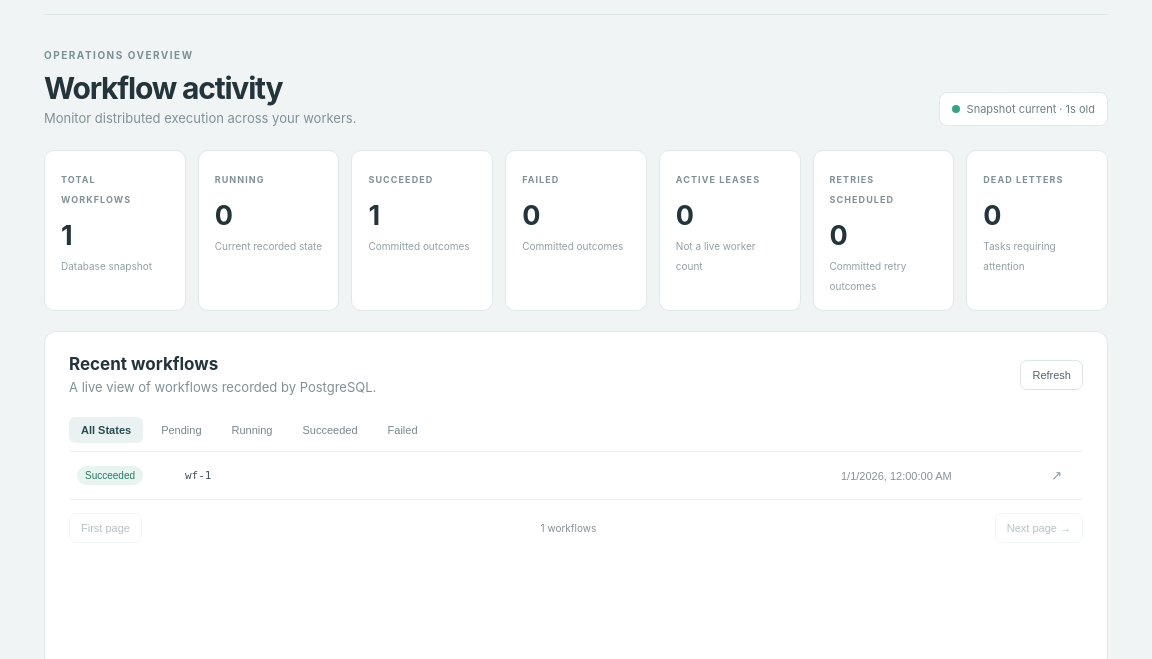
Test: dashboard › preserves loaded attempt pages across refresh and resets them on task switch
This screenshot has width=1152, height=659.
Click the text "wf-1".
click(198, 476)  # box [185,469,212,482]
(page scrolled)
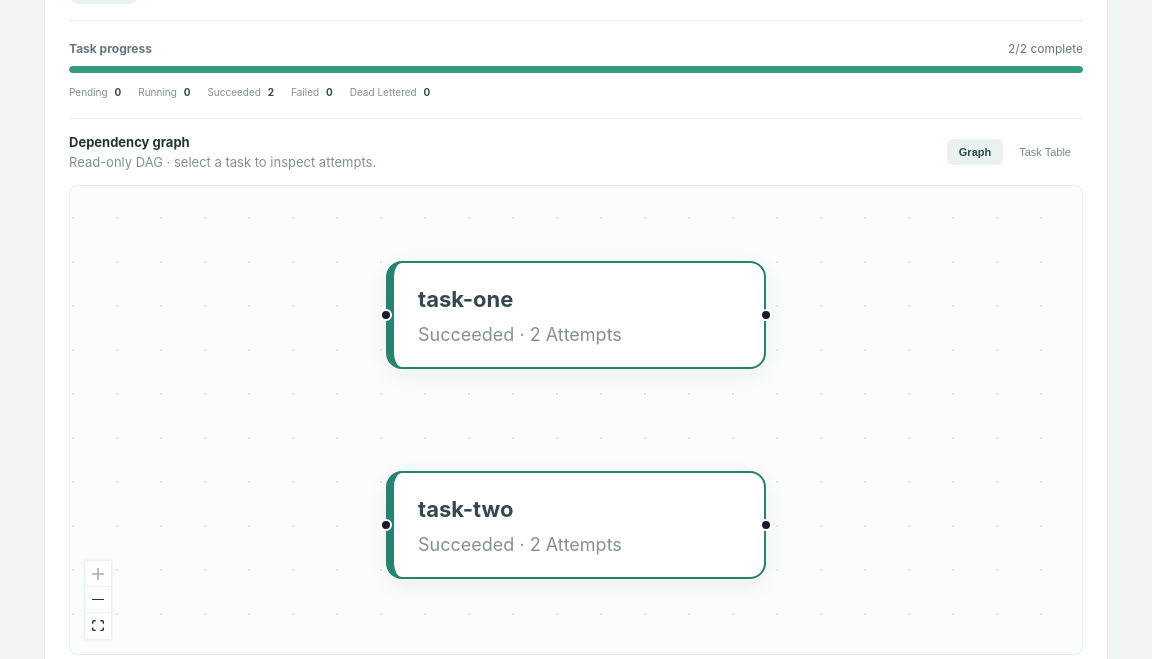
Click the text "task-one".
click(466, 299)  # box [418,285,513,313]
(page scrolled)
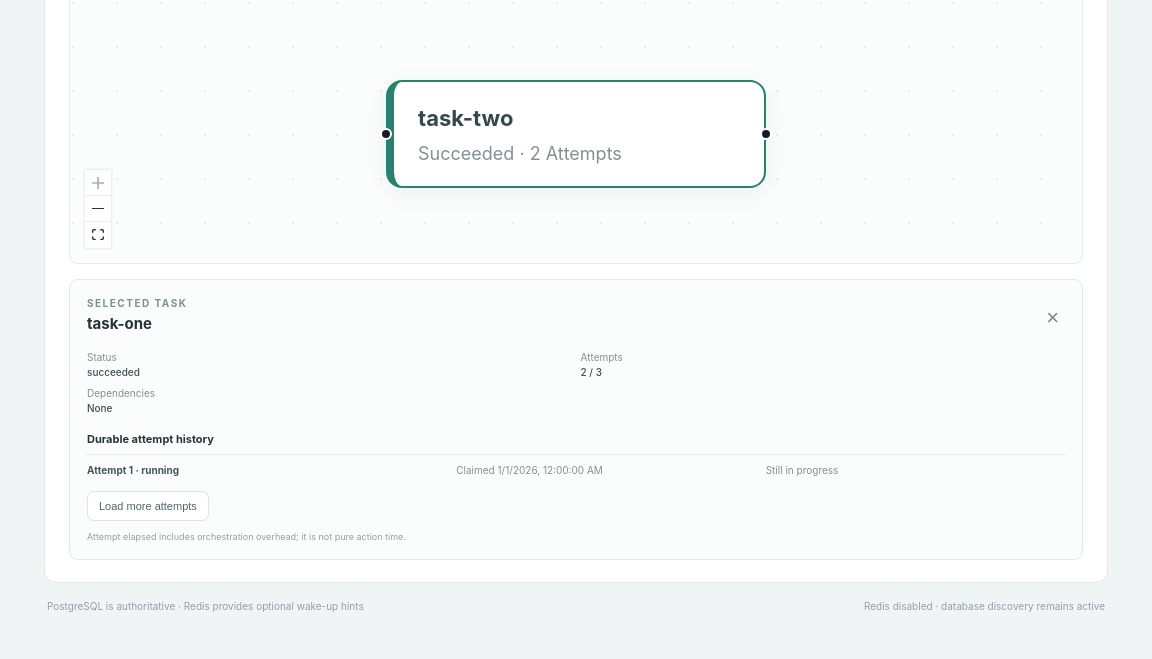
Now the text "Attempt 1 · running" is shown, box [87,464,179,476]
Click the button "Load more attempts".
click(148, 506)  # box [87,491,209,521]
Wait 15000 ms
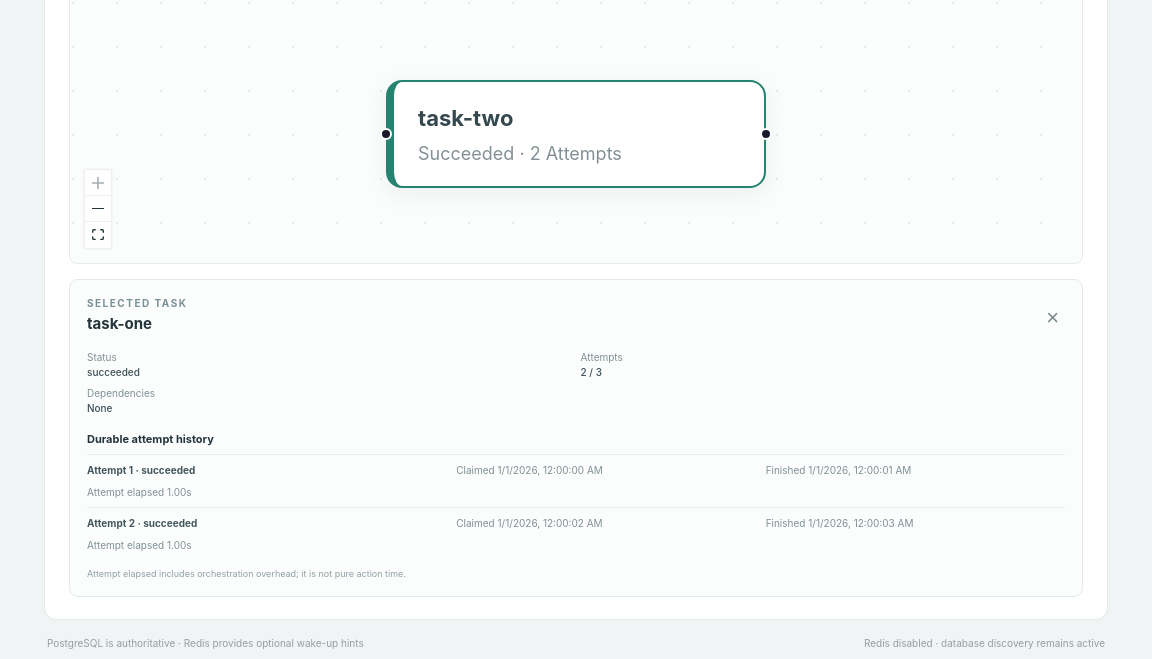
Now the text "Attempt 2 · succeeded" is shown, box [87,517,197,529]
Now the text "Attempt 1 · succeeded" is shown once, box [87,464,195,476]
Click the text "task-two".
click(466, 118)  # box [418,104,513,132]
(page scrolled)
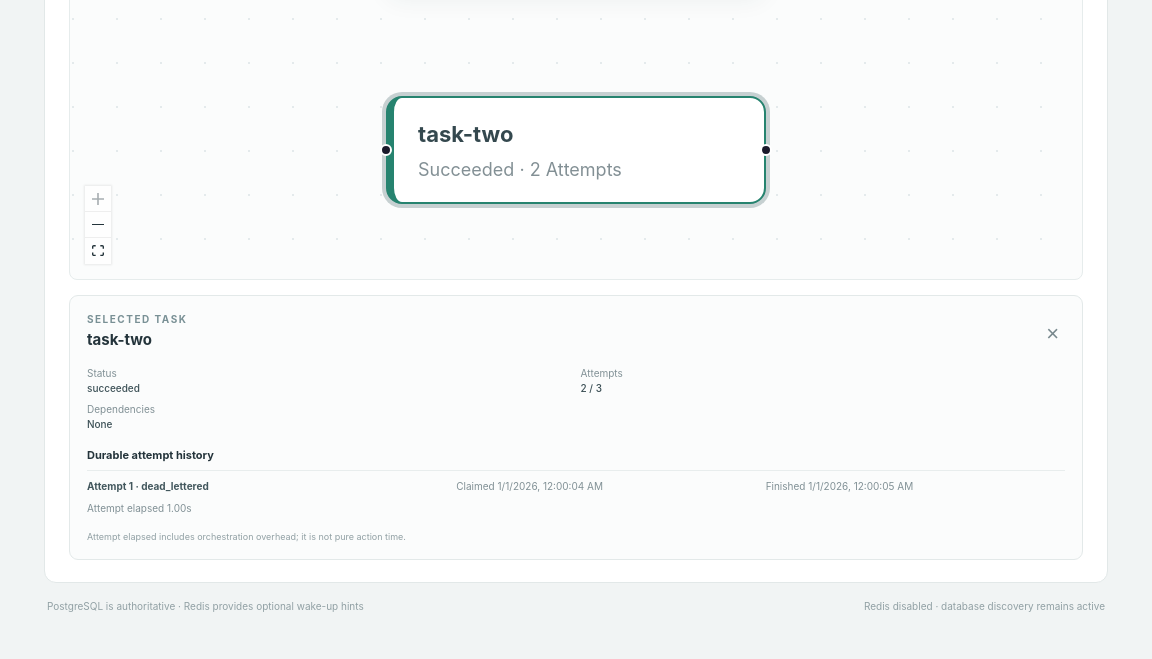
Now the text "Attempt 1 · dead_lettered" is shown, box [87,480,209,492]
Now the text "Attempt 2 · succeeded" is gone
Now the text "Attempt 1 · succeeded" is gone
